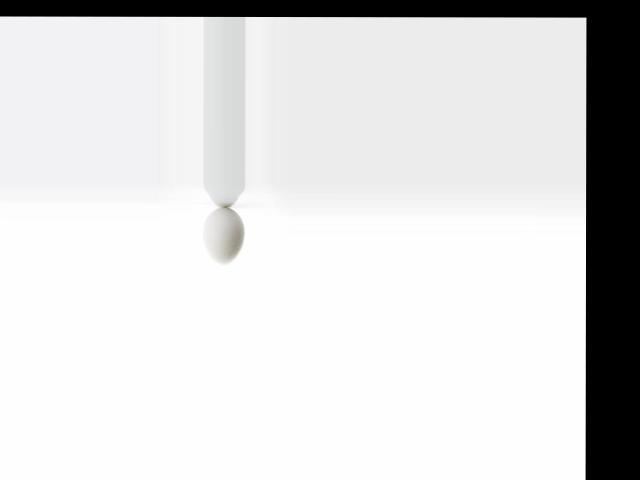egg: (203, 206, 244, 264)
